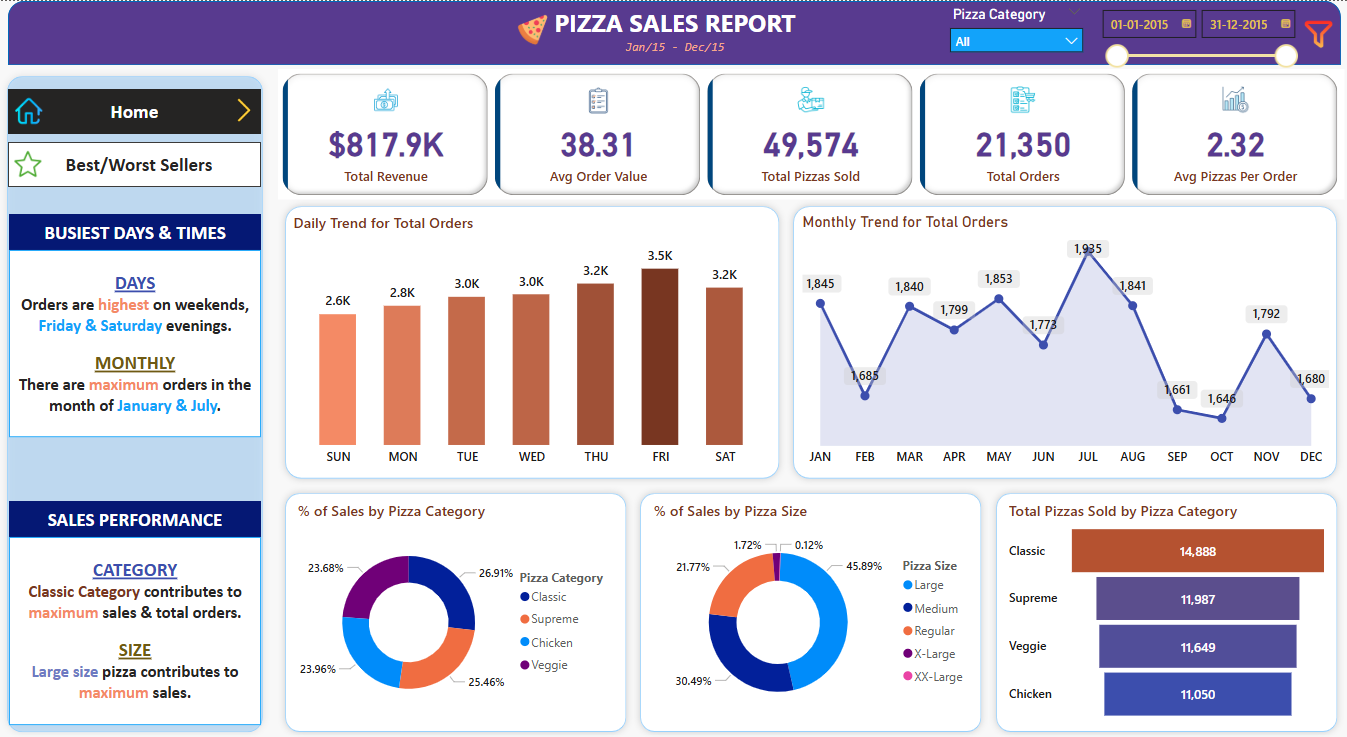

This screenshot's page, from the dashboard's own definition file:
{"tool":"powerbi","page":{"name":"Home","canvas":[1498,820],"ordinal":0},"visuals":[{"type":"shape","box":[0,75,300,745],"z":0},{"type":"textbox","box":[10,236.2,280,40],"z":1000},{"type":"cardVisual","fields":{"Data":["pizza_sales.Total Revenue","pizza_sales.Avg Order Value","pizza_sales.Total Pizzas Sold","pizza_sales.Total Orders","pizza_sales.Avg Pizzas Per Order"]},"box":[308.8,75,1185,145],"z":2000},{"type":"shape","box":[8.8,0,1481,71.2],"z":3000},{"type":"textbox","box":[601.2,0,297.5,71.2],"z":4000},{"type":"image","box":[558.8,10,65,43.8],"z":5000},{"type":"shape","box":[308.8,220,565,318.8],"z":6000},{"type":"columnChart","title":"Daily Trend for Total Orders","fields":{"Category":["pizza_sales.Order Day"],"Y":["pizza_sales.Total Orders"]},"box":[321.2,235,540,288.8],"z":7000},{"type":"shape","box":[873.8,220,620,318.8],"z":8000},{"type":"areaChart","title":"Monthly Trend for Total Orders","fields":{"Category":["pizza_sales.Order Month"],"Y":["pizza_sales.Total Orders"]},"box":[886.2,235,595,288.8],"z":9000},{"type":"shape","box":[308.8,538.8,395,281.2],"z":10000},{"type":"shape","box":[703.8,538.8,395,281.2],"z":11000},{"type":"shape","box":[1098.8,538.8,395,281.2],"z":12000},{"type":"donutChart","title":"% of Sales by Pizza Category","fields":{"Category":["pizza_sales.pizza_category"],"Y":["pizza_sales.Total Revenue"]},"box":[321.2,555,370,248.8],"z":13000},{"type":"donutChart","title":"% of Sales by Pizza Size","fields":{"Y":["pizza_sales.Total Revenue"],"Category":["pizza_sales.pizza_size"]},"box":[716.2,555,370,248.8],"z":14000},{"type":"funnel","title":"Total Pizzas Sold by Pizza Category","fields":{"Category":["pizza_sales.pizza_category"],"Y":["pizza_sales.Total Pizzas Sold"]},"box":[1111.2,555,370,248.8],"z":15000},{"type":"textbox","box":[10,276.2,280,207.5],"z":16000},{"type":"textbox","box":[10,555,280,40],"z":17000},{"type":"textbox","box":[10,595,280,208.8],"z":18000},{"type":"slicer","title":"Pizza Category","fields":{"Values":["pizza_sales.pizza_category"]},"box":[1045,0,167.5,71.2],"z":19000},{"type":"slicer","title":"Pizza Category","fields":{"Values":["pizza_sales.order_date"]},"box":[1212.5,0,237.5,75],"z":20000},{"type":"image","box":[1435,10,58.8,52.5],"z":21000},{"type":"pageNavigator","box":[8.8,97.5,281.2,50],"z":22000},{"type":"pageNavigator","box":[8.8,156.2,281.2,50],"z":23000},{"type":"image","box":[252.5,103.8,37.5,36.2],"z":24002},{"type":"image","box":[10,102.5,43.8,40],"z":24003},{"type":"image","box":[10,161.2,42.5,40],"z":24004}]}

Visuals, with their boxes in screenshot pixels (x1, y1, x2, y2), scaled from the page's 1498x820 canvas onto the 1347x737 screenshot:
shape: [left=0, top=67, right=270, bottom=736]
textbox: [left=9, top=212, right=261, bottom=248]
cardVisual - pizza_sales.Total Revenue x pizza_sales.Avg Order Value: [left=278, top=67, right=1343, bottom=198]
shape: [left=8, top=0, right=1340, bottom=64]
textbox: [left=541, top=0, right=808, bottom=64]
image: [left=502, top=9, right=561, bottom=48]
shape: [left=278, top=198, right=786, bottom=484]
"Daily Trend for Total Orders" columnChart: [left=289, top=211, right=774, bottom=471]
shape: [left=786, top=198, right=1343, bottom=484]
"Monthly Trend for Total Orders" areaChart: [left=797, top=211, right=1332, bottom=471]
shape: [left=278, top=484, right=633, bottom=736]
shape: [left=633, top=484, right=988, bottom=736]
shape: [left=988, top=484, right=1343, bottom=736]
"% of Sales by Pizza Category" donutChart: [left=289, top=499, right=622, bottom=722]
"% of Sales by Pizza Size" donutChart: [left=644, top=499, right=977, bottom=722]
"Total Pizzas Sold by Pizza Category" funnel: [left=999, top=499, right=1332, bottom=722]
textbox: [left=9, top=248, right=261, bottom=435]
textbox: [left=9, top=499, right=261, bottom=535]
textbox: [left=9, top=535, right=261, bottom=722]
"Pizza Category" slicer: [left=940, top=0, right=1090, bottom=64]
"Pizza Category" slicer: [left=1090, top=0, right=1304, bottom=67]
image: [left=1290, top=9, right=1343, bottom=56]
pageNavigator: [left=8, top=88, right=261, bottom=133]
pageNavigator: [left=8, top=140, right=261, bottom=185]
image: [left=227, top=93, right=261, bottom=126]
image: [left=9, top=92, right=48, bottom=128]
image: [left=9, top=145, right=47, bottom=181]
